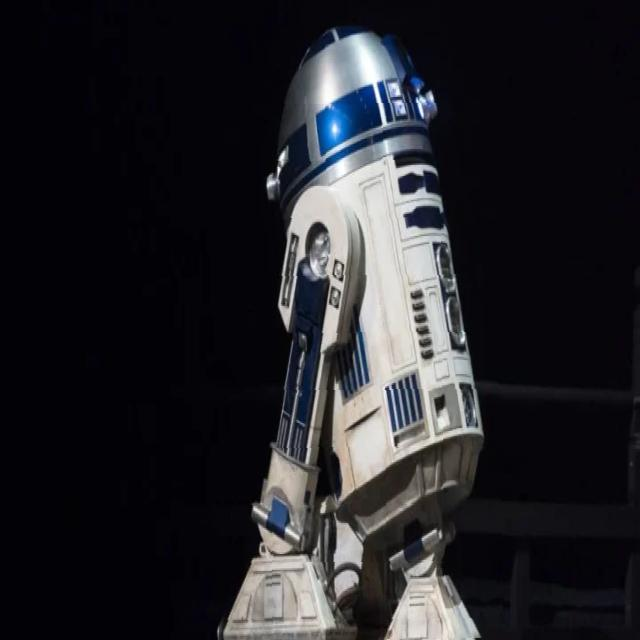r2-d2: (210, 23, 500, 640)
